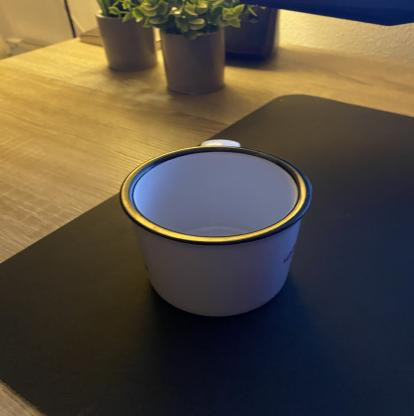Cup: (117, 138, 314, 319)
